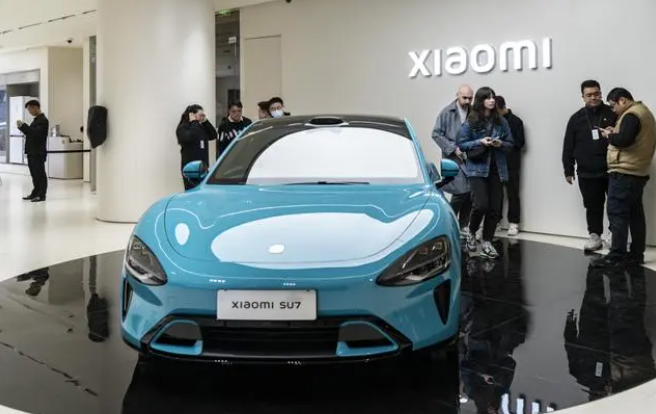su7: (123, 114, 469, 374)
